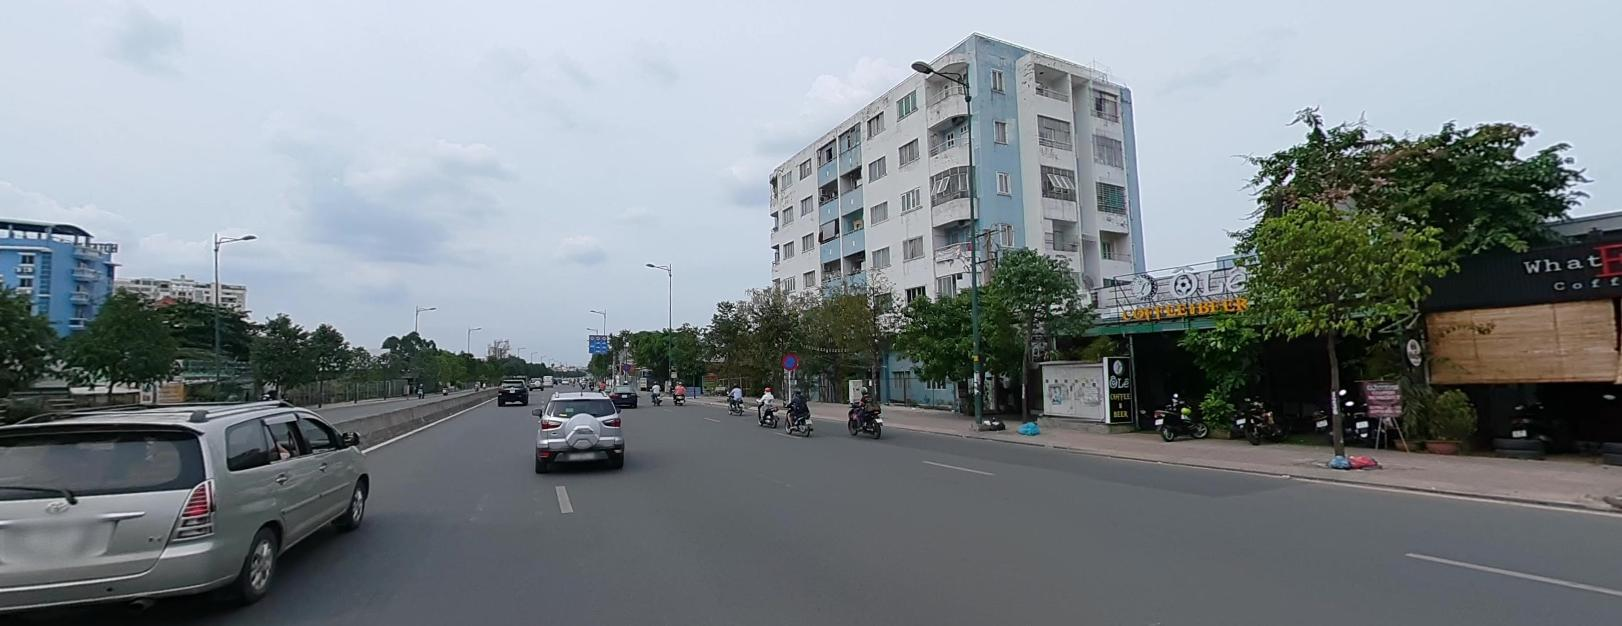Cam dung va do: (781, 351, 798, 369), (623, 362, 629, 369)
